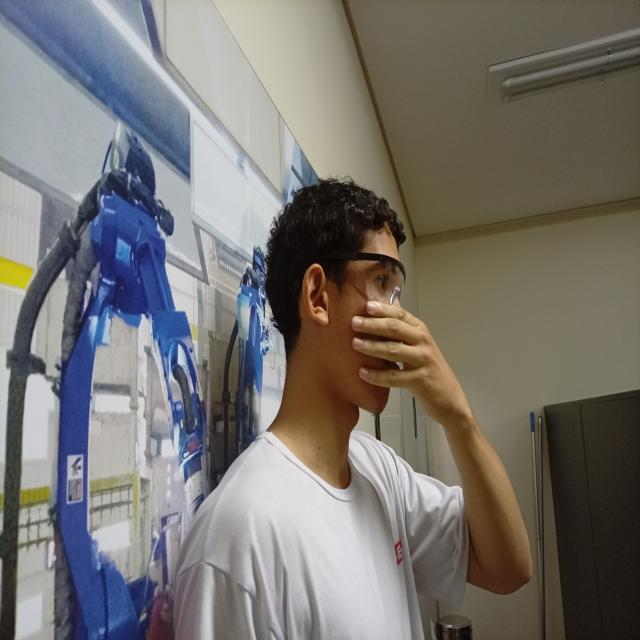oculos-epi: (290, 252, 405, 304)
